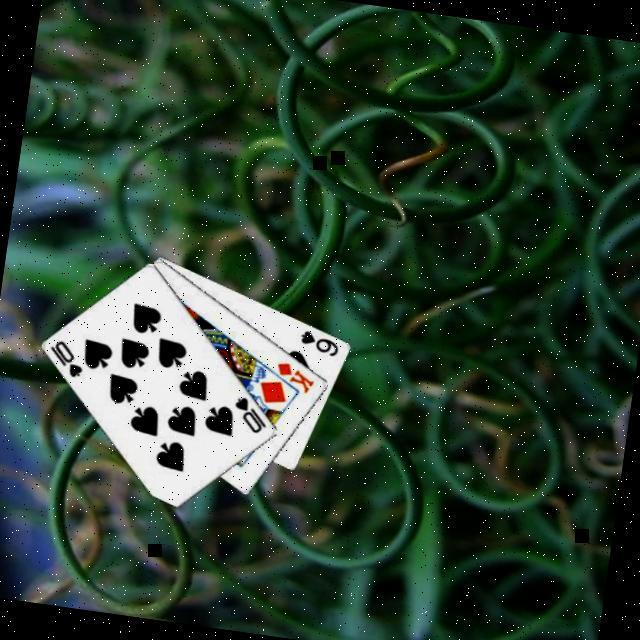10S: (43, 336, 88, 382), (227, 394, 272, 439)
6S: (294, 327, 343, 361)
KD: (270, 359, 318, 399)
